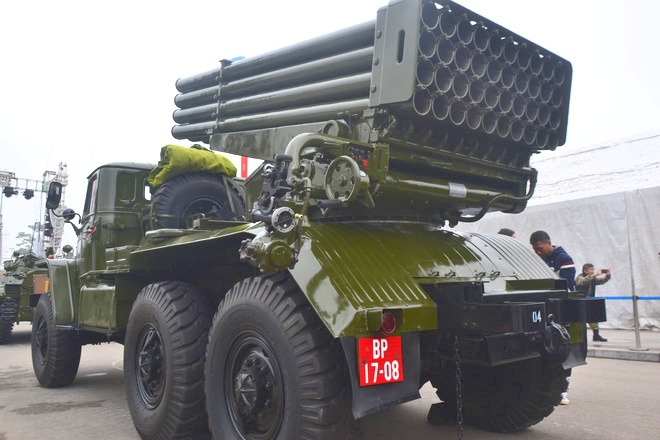plate: (356, 332, 405, 387)
